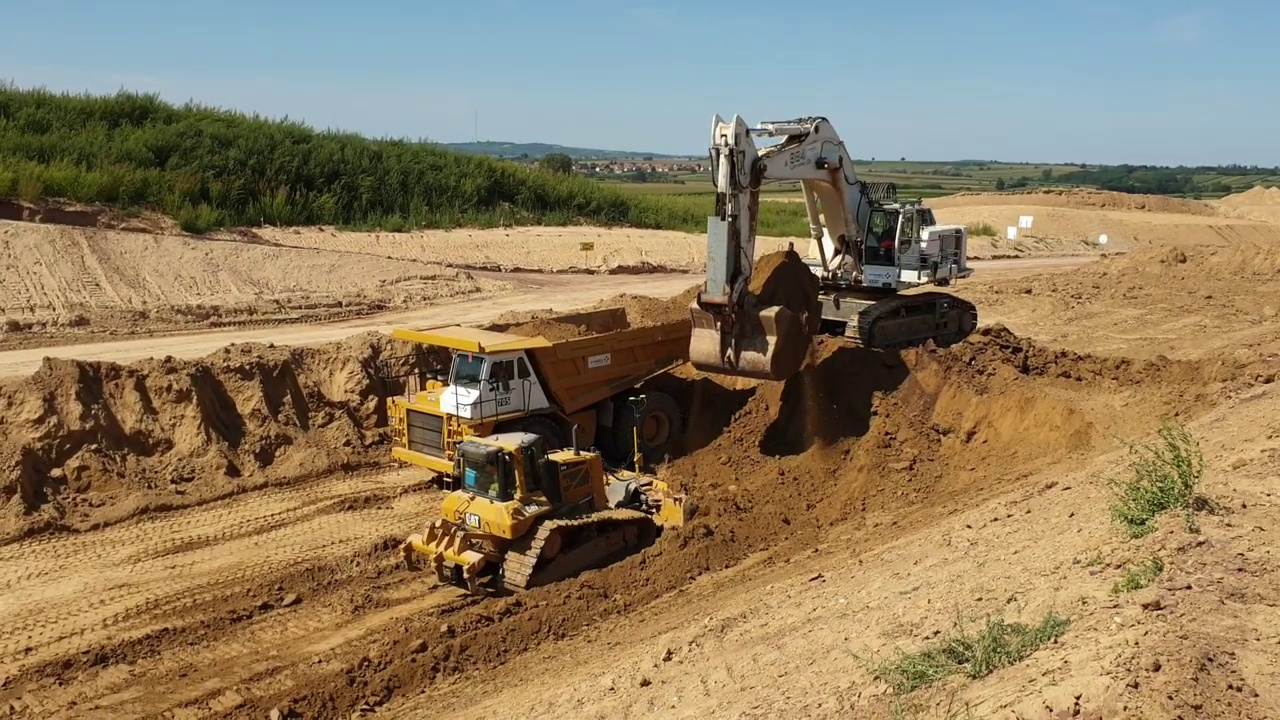bulldozer: (399, 388, 685, 598)
excavator: (684, 109, 980, 385)
truck: (378, 302, 698, 493)
